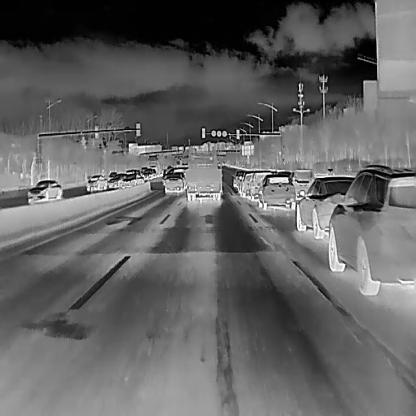car: (327, 162, 416, 296), (293, 172, 355, 238), (184, 151, 224, 202), (258, 173, 296, 212), (25, 179, 64, 202), (247, 170, 273, 202), (291, 168, 317, 199), (160, 166, 189, 184), (164, 172, 184, 193), (119, 172, 144, 188), (86, 173, 107, 191), (241, 171, 254, 198), (107, 172, 128, 188), (140, 168, 156, 180)
